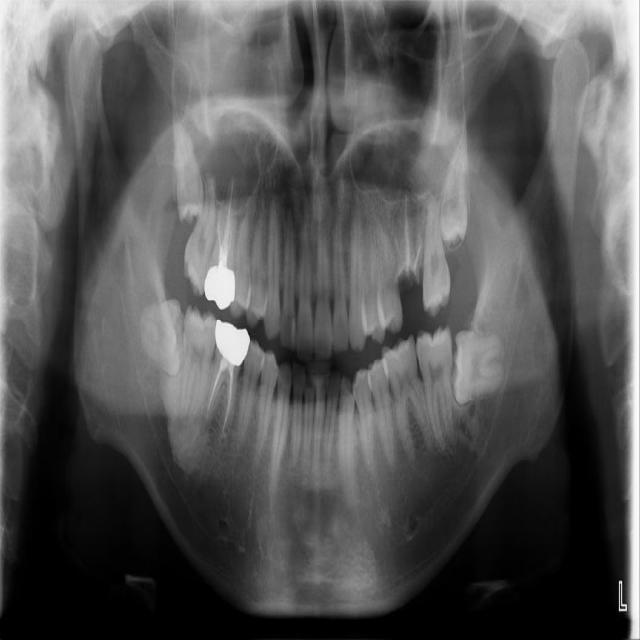3M ESPE Implant: (167, 117, 207, 224)
52: (203, 318, 255, 372), (203, 255, 236, 311)
73: (200, 356, 243, 439), (392, 193, 423, 297), (210, 172, 240, 265), (600, 554, 608, 562)
BioHorizons Implant: (422, 195, 450, 318)
BioLife Implant: (437, 132, 469, 248)
Biomet 3i Implant: (451, 331, 505, 407)
Blue Sky Bio Implant: (414, 324, 469, 453)
Caries: (177, 172, 224, 299), (177, 179, 225, 296)
Implant: (179, 307, 218, 420)
Keystone Dental Implant: (137, 298, 189, 377)
